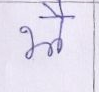au_matra: (45, 0, 69, 53)
